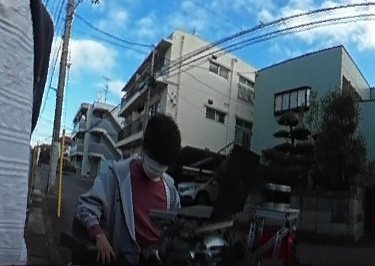person: (75, 120, 186, 262)
